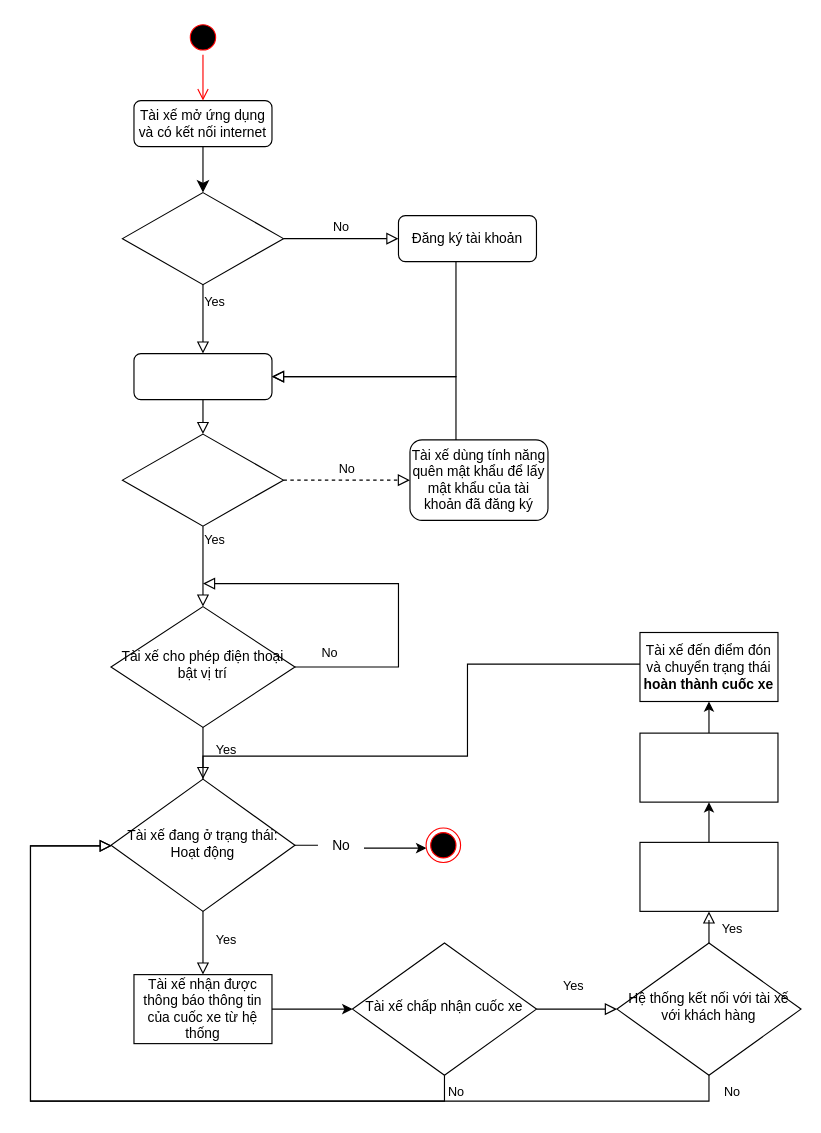
This 821x1133 diagram has some shape labels left out. The centre of each missing label's shape, as x and y in pixels:
Tài xế có tài khoản: [202,238]
Tài xế nhận tới đón khách và xác nhận chuyển trạng thái đang chở khách: [708,767]
Tài xế điền thông tin cần thiết để đăng nhập tài khoản: [202,376]
Tài xế đến đón khách hàng: [708,876]
Đăng nhập thành công: [202,479]
